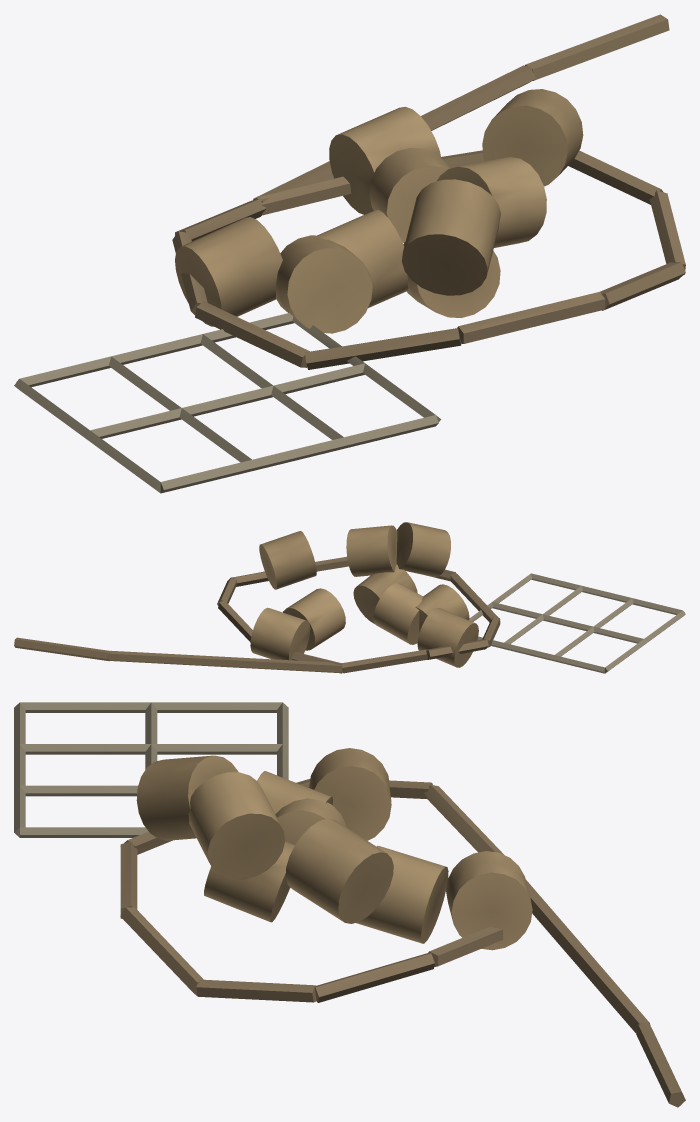
The model's file is float_bundle_a.glb.
3 views of the same model, one above another, from view 1: azimuth 30°, elevation 25°; view 2: azimuth 150°, elevation 25°; view 3: azimuth 270°, elevation 25° (orthographic). The views are drawn at different scales.
Parts seen in each view (by area): view 1: Surface; view 2: Surface; view 3: Surface.
Boxes of the visible parts, <box> form: Surface: <box>14,14,685,493</box>; Surface: <box>14,522,685,673</box>; Surface: <box>14,702,685,1107</box>.
Bounding box in the file's own units: 2.82 × 0.5042 × 2.04.
